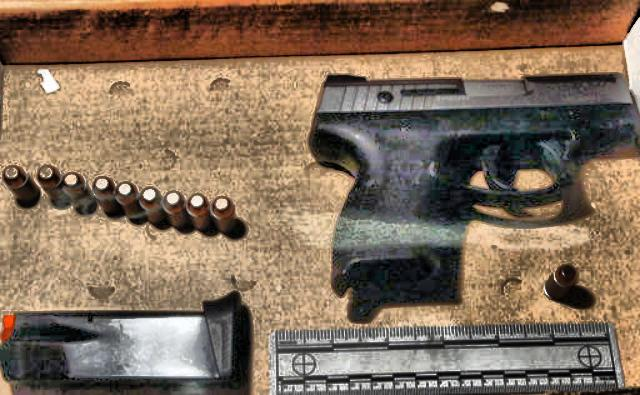pistol: (307, 72, 638, 292)
